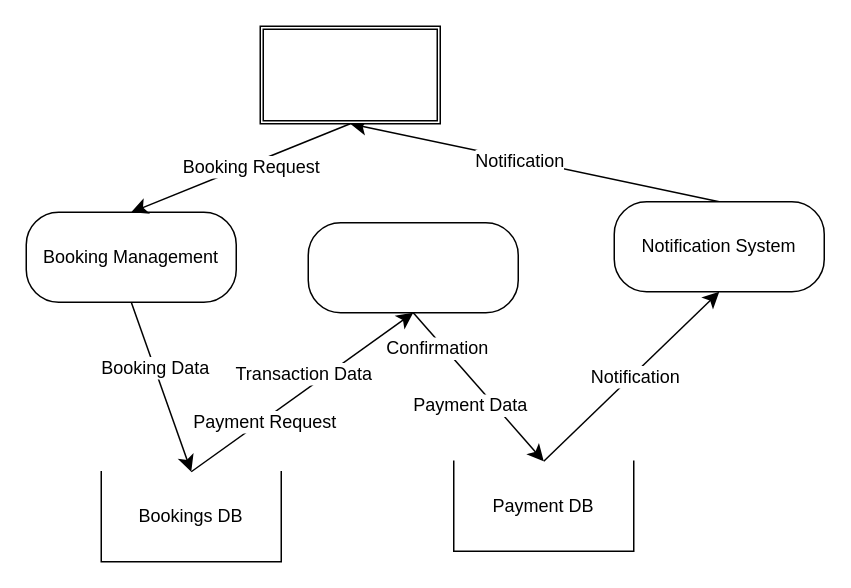
Some shapes in this 851 by 588 pixel diagram are drawn without their labels. Each missing label, with the box of its shape:
Payment Processing: (307, 221, 518, 313)
User: (259, 25, 440, 124)
